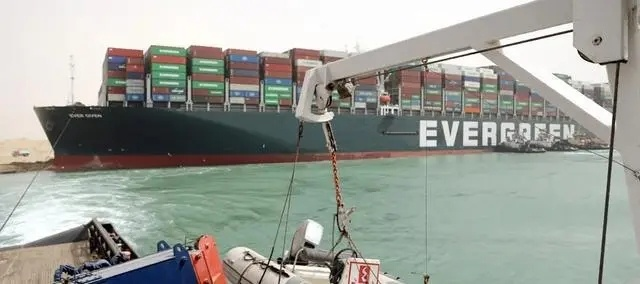Cargoship: (23, 41, 626, 183)
